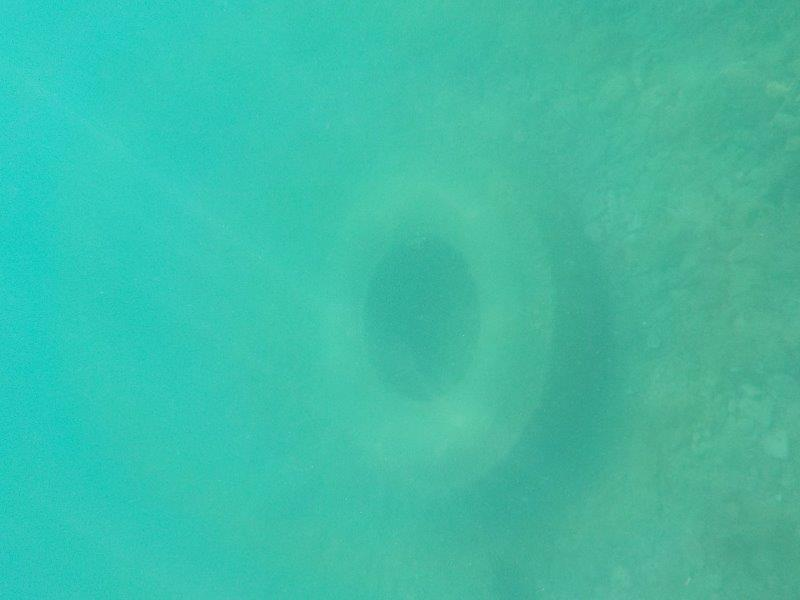tire: (290, 138, 613, 505)
